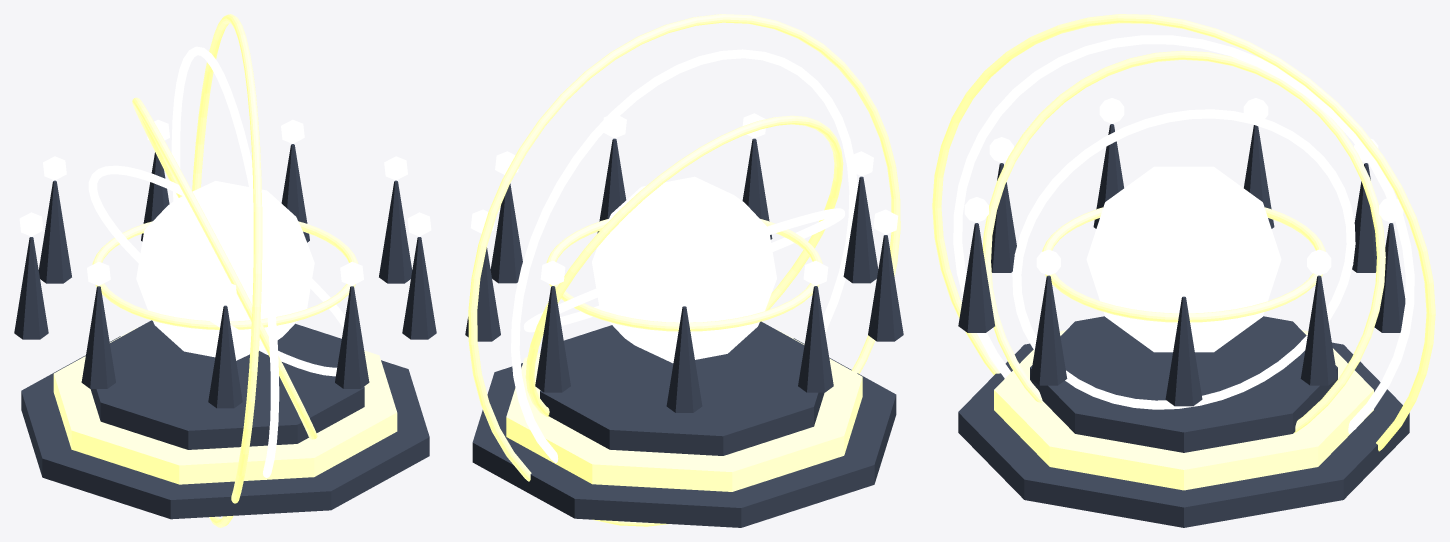
File: gpu-blender-v2.glb
3 views of the same model, side by side, from view 1: azimuth 30°, elevation 25°; view 2: azimuth 150°, elevation 25°; view 3: azimuth 270°, elevation 25° (orthographic). The views are drawn at different scales.
Parts seen in each view (by area): view 1: Cylinder.002, Cylinder, SovereignCore_zothos-lite, Cylinder.001, Torus.004, Torus.003, Torus.001, Torus.002, Torus, Cone.006, Cone.004, Cone.008 (+6 smaller); view 2: Cylinder.002, SovereignCore_zothos-lite, Cylinder, Cylinder.001, Torus.004, Torus.003, Torus.002, Torus.001, Torus, Cone.005, Cone.002, Cone.004 (+6 smaller); view 3: SovereignCore_zothos-lite, Cylinder.002, Cylinder, Cylinder.001, Torus.004, Torus.003, Torus.002, Torus.001, Torus, Cone, Cone.001, Cone.008 (+6 smaller).
Part boxes in pixels (left/top/right/bottom): Cylinder.002: left=90, top=320, right=364, bottom=449; Cylinder: left=21, top=336, right=429, bottom=519; SovereignCore_zothos-lite: left=136, top=181, right=314, bottom=360; Cylinder.001: left=53, top=327, right=397, bottom=484; Torus.004: left=192, top=14, right=262, bottom=527; Torus.003: left=171, top=46, right=279, bottom=479; Torus.001: left=88, top=165, right=345, bottom=376; Torus.002: left=132, top=97, right=317, bottom=439; Torus: left=92, top=221, right=358, bottom=329; Cone.006: left=208, top=305, right=242, bottom=408; Cone.004: left=14, top=237, right=48, bottom=339; Cone.008: left=402, top=237, right=436, bottom=339; Cylinder.002: left=540, top=321, right=824, bottom=455; SovereignCore_zothos-lite: left=592, top=176, right=776, bottom=363; Cylinder: left=472, top=338, right=896, bottom=527; Cylinder.001: left=506, top=329, right=862, bottom=491; Torus.004: left=468, top=14, right=900, bottom=526; Torus.003: left=511, top=49, right=857, bottom=462; Torus.002: left=525, top=115, right=843, bottom=416; Torus.001: left=523, top=208, right=844, bottom=332; Torus: left=546, top=219, right=822, bottom=331; Cone.005: left=868, top=235, right=903, bottom=341; Cone.002: left=535, top=286, right=570, bottom=392; Cone.004: left=798, top=286, right=833, bottom=392; SovereignCore_zothos-lite: left=1086, top=166, right=1281, bottom=352; Cylinder.002: left=1030, top=316, right=1337, bottom=452; Cylinder: left=958, top=342, right=1409, bottom=527; Cylinder.001: left=994, top=330, right=1373, bottom=490; Torus.004: left=932, top=14, right=1435, bottom=451; Torus.003: left=953, top=35, right=1414, bottom=433; Torus.002: left=983, top=50, right=1385, bottom=432; Torus.001: left=1012, top=109, right=1355, bottom=409; Torus: left=1042, top=207, right=1325, bottom=322; Cone: left=1165, top=296, right=1202, bottom=406; Cone.001: left=1300, top=275, right=1337, bottom=385; Cone.008: left=1030, top=275, right=1067, bottom=385.
Size of the model in its own units: 4.41 by 5.33 by 4.9.
